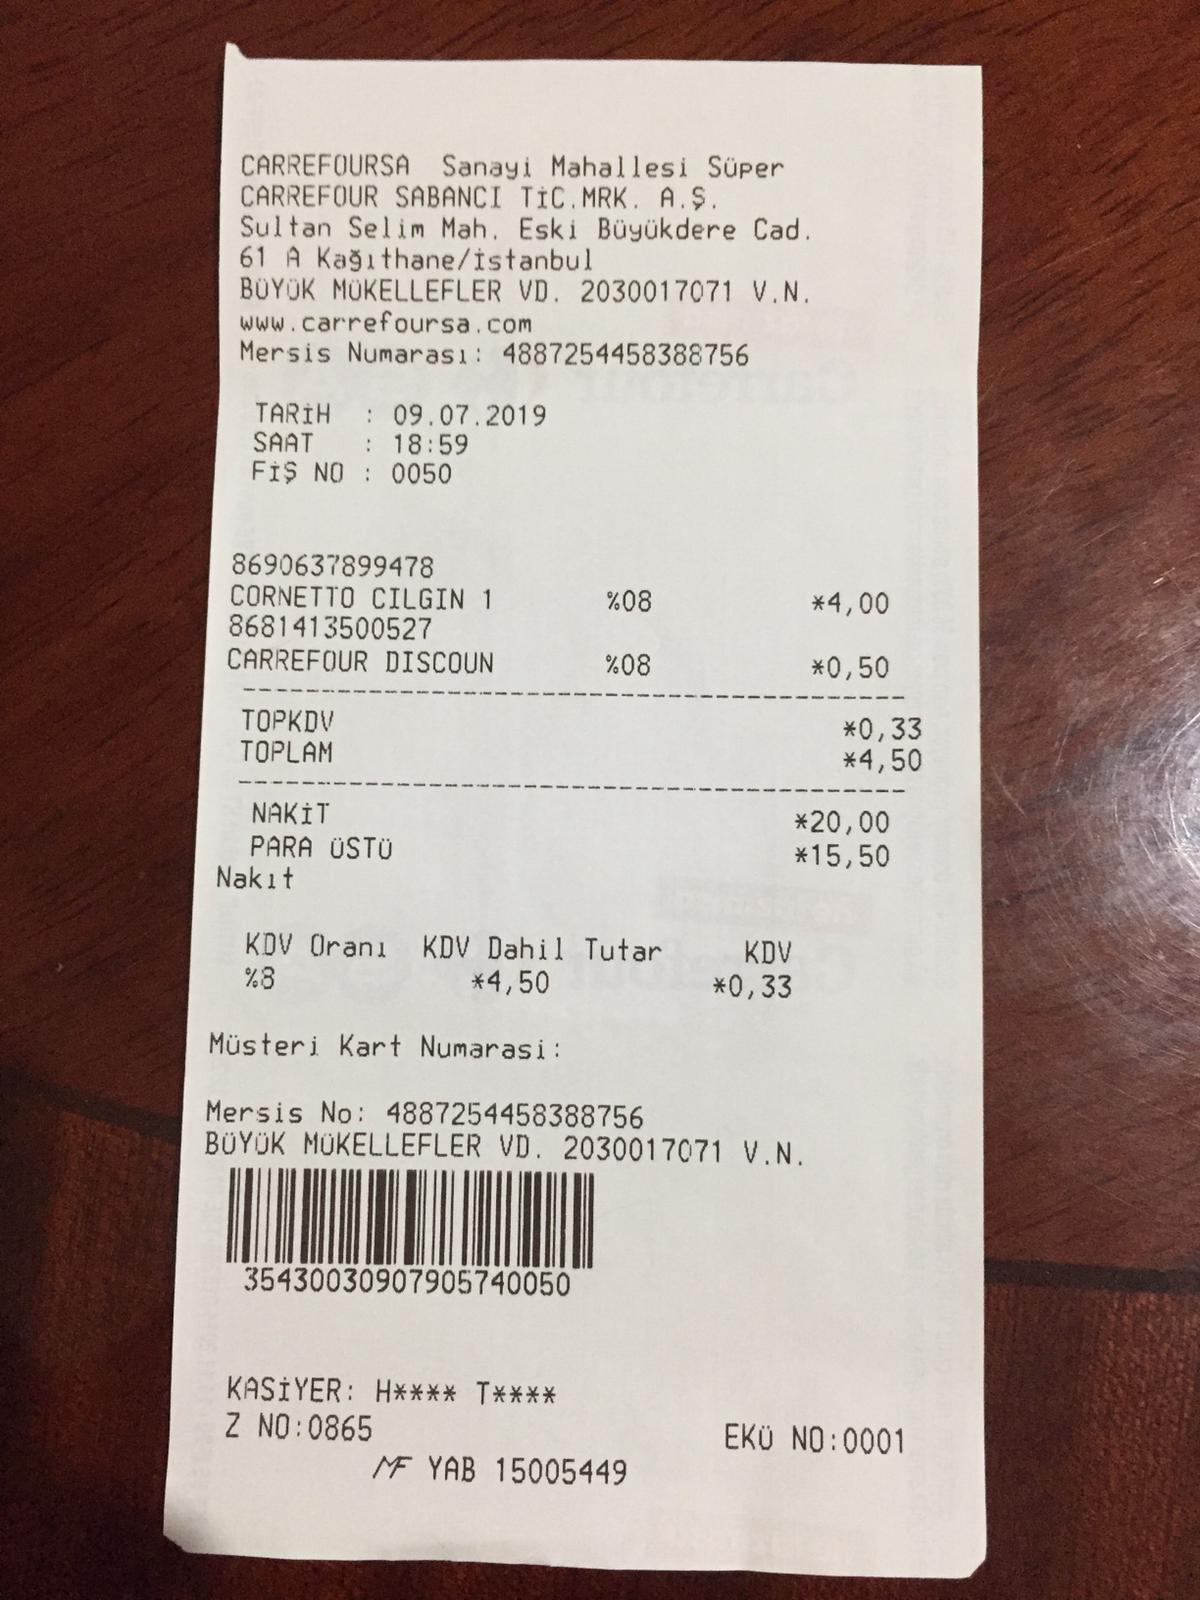total: (233, 737, 933, 781)
